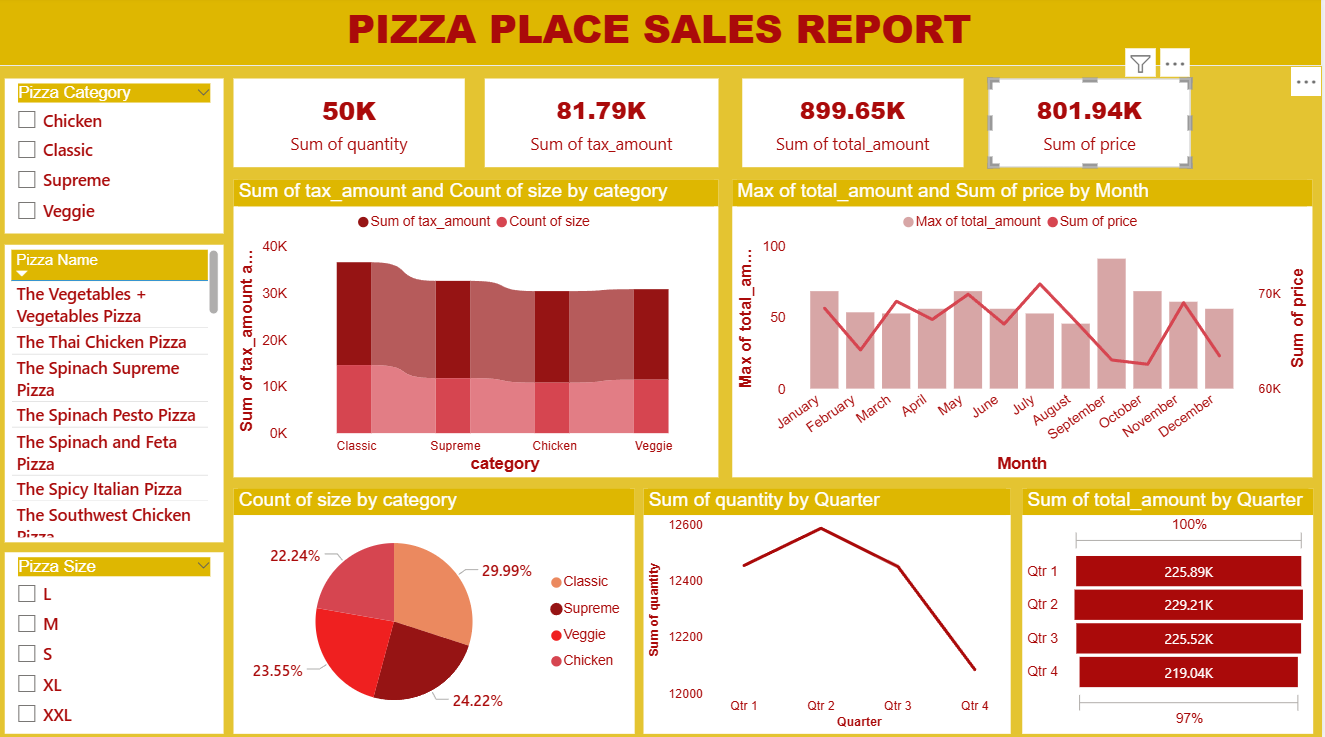

This screenshot's page, from the dashboard's own definition file:
{"tool":"powerbi","page":{"name":"Page 4","canvas":[1280,720],"ordinal":3},"visuals":[{"type":"textbox","box":[0,0,1280,67.6],"z":0},{"type":"slicer","fields":{"Values":["Pizza_Order_Details (3).category"]},"box":[8.4,79.6,211.1,149.6],"z":1000},{"type":"tableEx","fields":{"Values":["Pizza_Order_Details (3).name"]},"box":[8.4,240.1,211.1,287.1],"z":2000},{"type":"card","fields":{"Values":["Sum(Pizza_Order_Details (3).price)"]},"box":[957.9,79.6,195.4,85.7],"z":3000},{"type":"card","fields":{"Values":["Sum(Pizza_Order_Details (3).quantity)"]},"box":[229.2,79.6,223.2,85.7],"z":4000},{"type":"card","fields":{"Values":["Sum(Pizza_Order_Details (3).tax_amount)"]},"box":[471.7,79.6,225.6,85.7],"z":5000},{"type":"card","fields":{"Values":["Sum(Pizza_Order_Details (3).total_amount)"]},"box":[720.2,79.6,213.5,85.7],"z":6000},{"type":"slicer","fields":{"Values":["Pizza_Order_Details (3).size"]},"box":[8.4,536.9,211.1,174.9],"z":7000},{"type":"ribbonChart","fields":{"Category":["Pizza_Order_Details (3).category"],"Y":["Sum(Pizza_Order_Details (3).tax_amount)","CountNonNull(Pizza_Order_Details (3).size)"]},"box":[229.2,177.3,468.1,287.1],"z":8000},{"type":"pieChart","fields":{"Category":["Pizza_Order_Details (3).category"],"Y":["CountNonNull(Pizza_Order_Details (3).size)"]},"box":[229.2,475.3,387.3,236.5],"z":9000},{"type":"lineChart","fields":{"Category":["Pizza_Order_Details (3).date.Variation.Date Hierarchy.Quarter"],"Y":["Sum(Pizza_Order_Details (3).quantity)"]},"box":[624.9,475.3,354.7,236.5],"z":10000},{"type":"lineStackedColumnComboChart","fields":{"Category":["Pizza_Order_Details (3).date.Variation.Date Hierarchy.Month"],"Y":["Max(Pizza_Order_Details (3).total_amount)"],"Y2":["Sum(Pizza_Order_Details (3).price)"]},"box":[710.6,177.3,559.8,287.1],"z":11000},{"type":"funnel","fields":{"Category":["Pizza_Order_Details (3).date.Variation.Date Hierarchy.Quarter"],"Y":["Sum(Pizza_Order_Details (3).total_amount)"]},"box":[990.5,475.3,281.1,236.5],"z":12000}]}

Visuals, with their boxes in screenshot pixels (x1, y1, x2, y2), scaled from the page's 1280x720 canvas onto the 1325x737 screenshot:
textbox: (left=0, top=0, right=1324, bottom=69)
slicer - Pizza_Order_Details (3).category: (left=9, top=81, right=227, bottom=235)
tableEx - Pizza_Order_Details (3).name: (left=9, top=246, right=227, bottom=540)
card - Sum(Pizza_Order_Details (3).price): (left=992, top=81, right=1194, bottom=169)
card - Sum(Pizza_Order_Details (3).quantity): (left=237, top=81, right=468, bottom=169)
card - Sum(Pizza_Order_Details (3).tax_amount): (left=488, top=81, right=722, bottom=169)
card - Sum(Pizza_Order_Details (3).total_amount): (left=746, top=81, right=967, bottom=169)
slicer - Pizza_Order_Details (3).size: (left=9, top=550, right=227, bottom=729)
ribbonChart - Pizza_Order_Details (3).category x Sum(Pizza_Order_Details (3).tax_amount): (left=237, top=181, right=722, bottom=475)
pieChart - Pizza_Order_Details (3).category x CountNonNull(Pizza_Order_Details (3).size): (left=237, top=487, right=638, bottom=729)
lineChart - Pizza_Order_Details (3).date.Variation.Date Hierarchy.Quarter x Sum(Pizza_Order_Details (3).quantity): (left=647, top=487, right=1014, bottom=729)
lineStackedColumnComboChart - Pizza_Order_Details (3).date.Variation.Date Hierarchy.Month x Max(Pizza_Order_Details (3).total_amount): (left=736, top=181, right=1315, bottom=475)
funnel - Pizza_Order_Details (3).date.Variation.Date Hierarchy.Quarter x Sum(Pizza_Order_Details (3).total_amount): (left=1025, top=487, right=1316, bottom=729)
